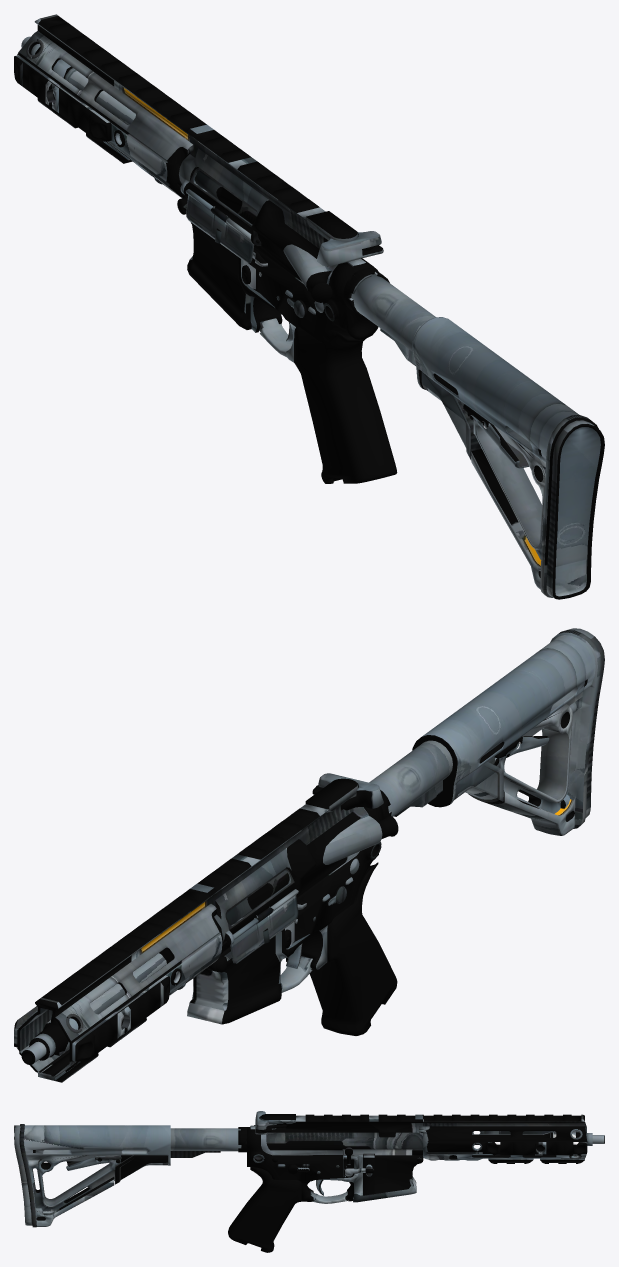
Rendered from R4C-Glacier.glb.
The picture shows the model from 3 angles, top to bottom: view 1: azimuth 30°, elevation 25°; view 2: azimuth 150°, elevation 25°; view 3: azimuth 270°, elevation 25°; orthographic projection. The views are drawn at different scales.
Visible parts, largest first — view 1: R4C Glacier; view 2: R4C Glacier; view 3: R4C Glacier.
Boxes of the visible parts, x1=… form: R4C Glacier: x1=14, y1=14, x2=604, y2=599; R4C Glacier: x1=14, y1=628, x2=604, y2=1082; R4C Glacier: x1=14, y1=1111, x2=604, y2=1252.
Bounding box in the file's own units: 0.0476 × 0.1397 × 0.5675.
1 material, 1 textured.
